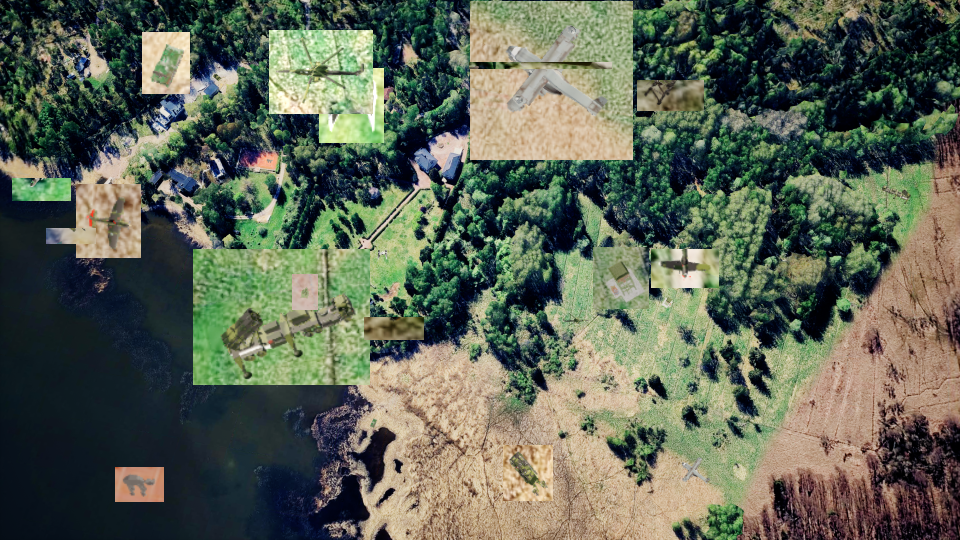condor: (470, 1, 633, 160)
hangar: (469, 62, 612, 69)
helicopter: (269, 30, 373, 114)
jammer: (142, 32, 190, 94)
jet_plane: (12, 178, 71, 201)
large_launcher: (193, 249, 370, 385)
large_tower: (637, 80, 704, 111)
medium_launcher: (364, 317, 424, 340)
medium_plane: (651, 249, 719, 288)
mine_roller: (503, 445, 553, 501)
small_launcher: (292, 274, 318, 310)
small_plane: (76, 184, 141, 258)
small_tower: (593, 247, 649, 309)
spacecraft: (319, 68, 384, 143)
ta-ta: (115, 467, 164, 502)
tank: (46, 228, 96, 244)
